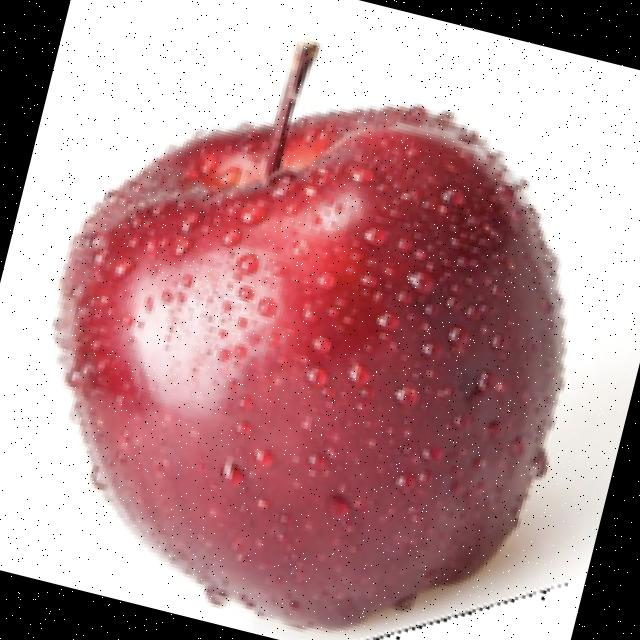apple: (48, 39, 589, 640)
